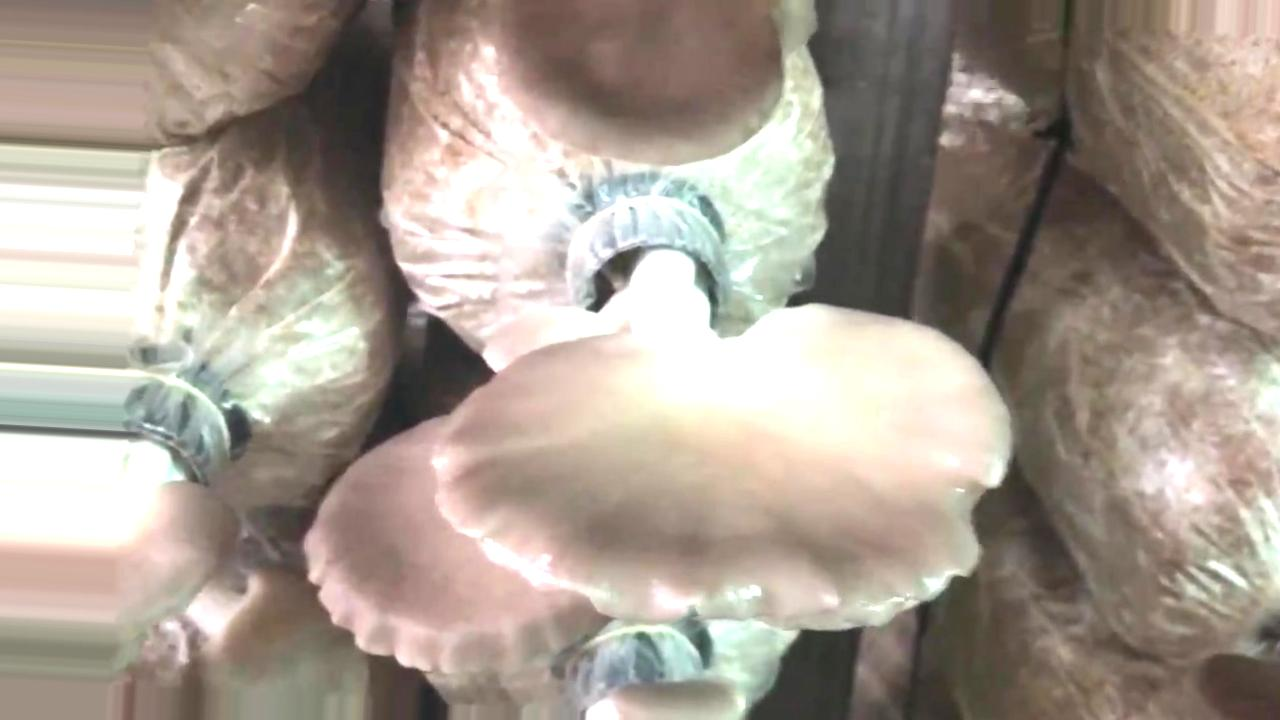nam: (428, 184, 1018, 643), (302, 413, 585, 677), (492, 1, 792, 170), (114, 373, 239, 663)
